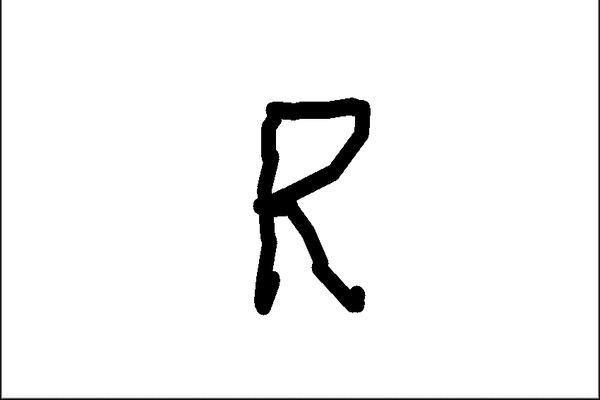R: (237, 88, 391, 320)
